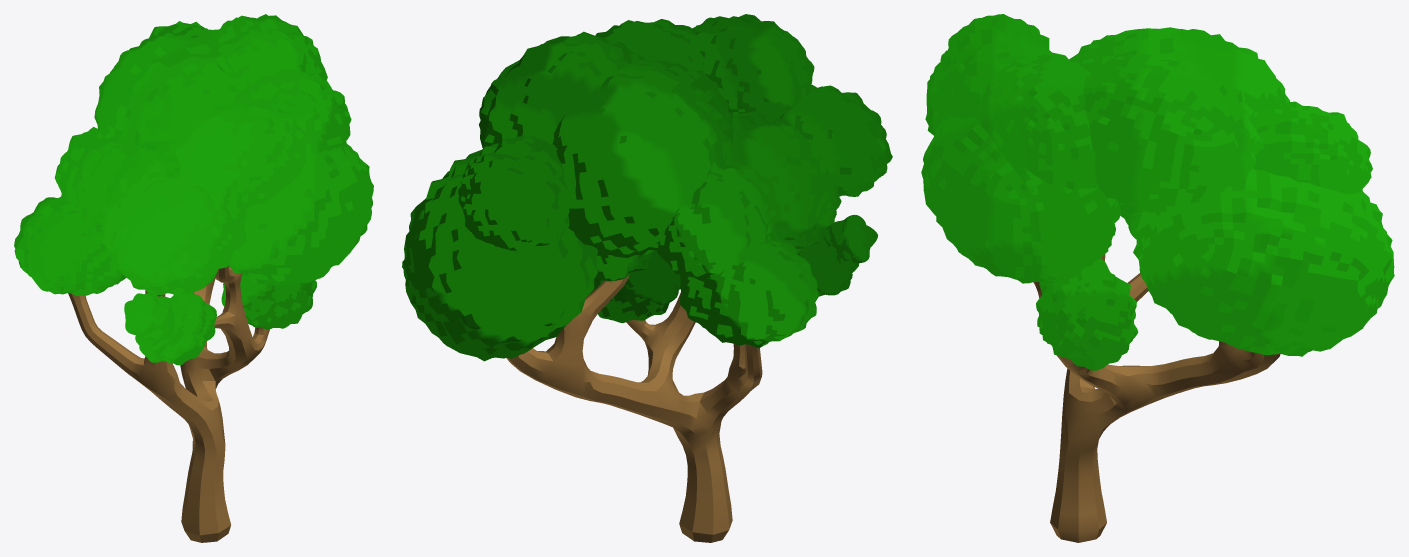
Rendered from tree2.fbx.
The picture shows the model from 3 angles, left to right: view 1: azimuth 30°, elevation 25°; view 2: azimuth 150°, elevation 25°; view 3: azimuth 270°, elevation 25°; orthographic projection. The views are drawn at different scales.
Visible parts, largest first — view 1: Cube.006, Plane.001; view 2: Cube.006, Plane.001; view 3: Cube.006, Plane.001.
Part boxes in pixels (x1=…): Cube.006: x1=14, y1=14, x2=373, y2=365; Plane.001: x1=68, y1=266, x2=269, y2=542; Cube.006: x1=402, y1=14, x2=892, y2=361; Plane.001: x1=506, y1=274, x2=762, y2=542; Cube.006: x1=921, y1=14, x2=1394, y2=370; Plane.001: x1=1033, y1=254, x2=1280, y2=542.
Bounding box in the file's own units: 1377 × 1879 × 1534.
